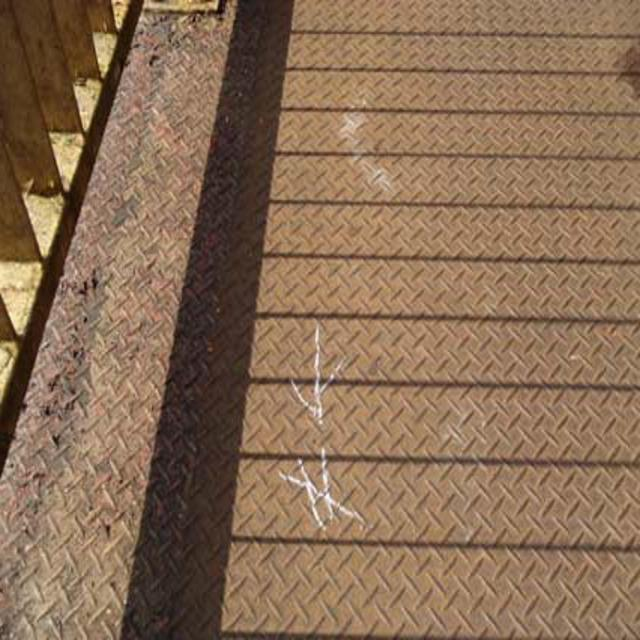corrosion: (27, 26, 170, 530)
